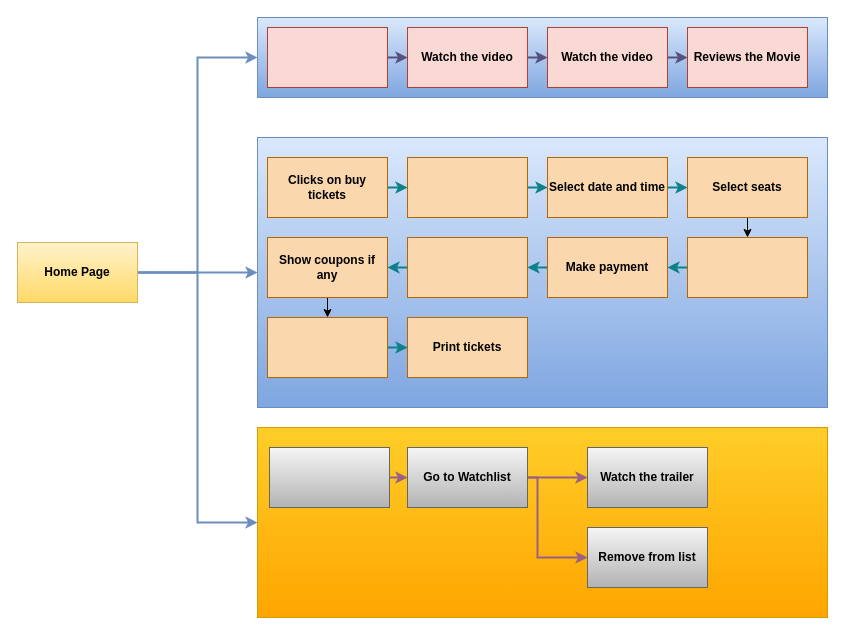
The diagram is 845 pixels wide and 635 high, and some of its shapes have lost their labels. Here are the shapes that lost their labels. From the top down, the centre of each, then its label:
the point at 327,57: click on video
the point at 467,187: Navigate to the movie book page
the point at 467,267: acknowledgement on purchase
the point at 747,267: select payment
the point at 327,347: Navigate to the booking page
the point at 329,477: Watchlist the movie
